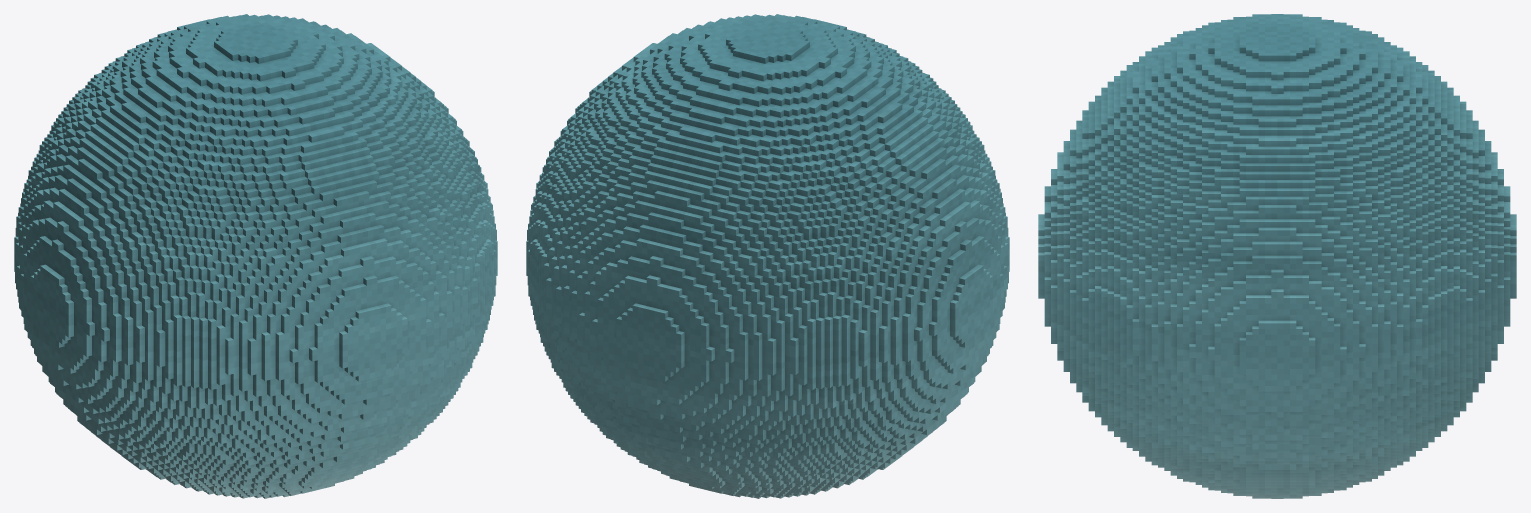
Rendered from uranus_lod0.glb.
3 views of the same model, side by side, from view 1: azimuth 30°, elevation 25°; view 2: azimuth 150°, elevation 25°; view 3: azimuth 270°, elevation 25° (orthographic).
Parts seen in each view (by area): view 1: uranus_lod0; view 2: uranus_lod0; view 3: uranus_lod0.
Boxes of the visible parts, box(x1,y1,x2,y2) form: uranus_lod0: box(14, 14, 497, 498); uranus_lod0: box(526, 14, 1009, 498); uranus_lod0: box(1038, 14, 1516, 498).
Size of the model in its own units: 2 by 2 by 2.
